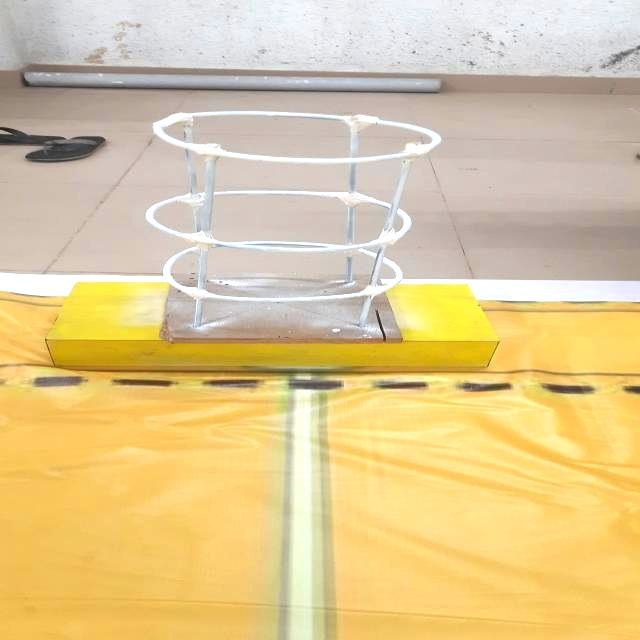silo: (111, 96, 472, 353)
